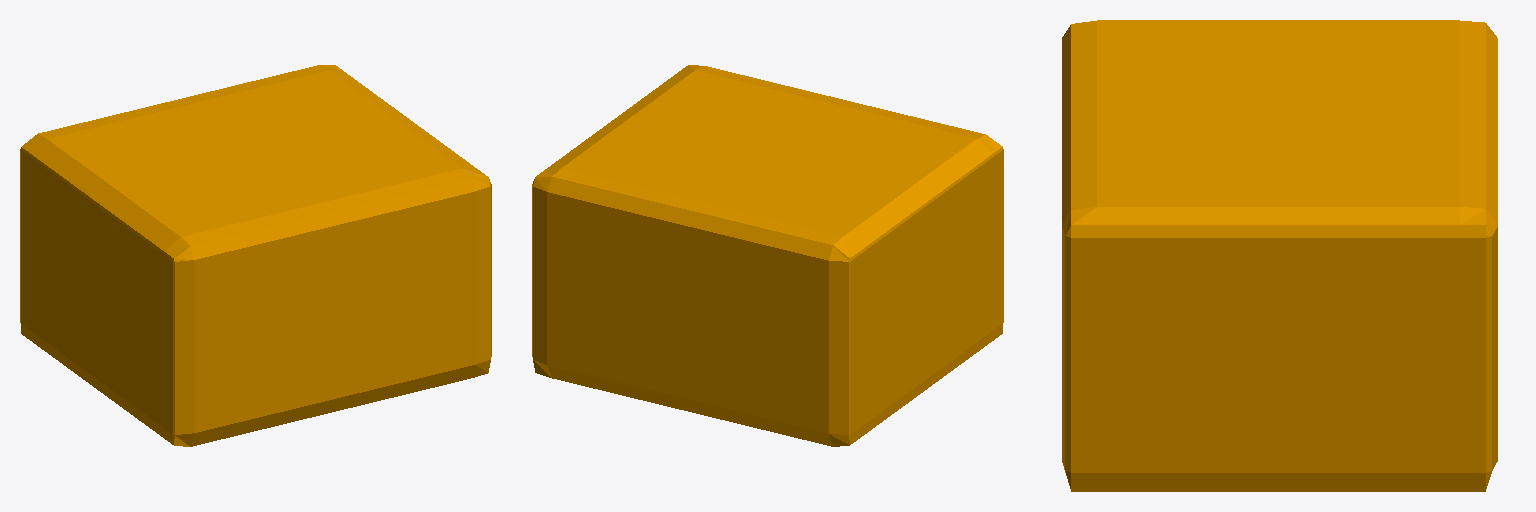
The robot description file, URDF, robot "cylinder_box_52":
<?xml version="1.0" encoding="utf-8"?>  <robot name="cylinder_box_52">   <link name="cylinder_box_52">     <visual>       <geometry>         <mesh filename="../meshes/box/box_52.stl" scale="1 1 1"/>       </geometry>     </visual>     <collision>       <geometry>         <mesh filename="../meshes/box/box_52.stl" scale="1 1 1"/>       </geometry>     </collision>     <inertial>        <origin         xyz="0 0 0"         rpy="0 0 0" />       <mass value="0.4710658334984667"/>       <origin rpy="0 0 0" xyz="0 0 0"/>       <inertia ixx="0.0004090696473235199" ixy="2.8145556837173163e-08" ixz="-4.9779187925912204e-08" iyy="0.0004921273137409853" iyz="-1.0343053533054065e-07" izz="0.0006341606645974483"/>     </inertial>   </link>  </robot>

--- What the picture shows (computed from the rendered views, not written in the file) ---
Views: 3 orthographic renders of the robot side by side, from view 1: azimuth 30°, elevation 25°; view 2: azimuth 150°, elevation 25°; view 3: azimuth 270°, elevation 25°.
Robot: cylinder_box_52 — 1 links, 0 joints (none); root link cylinder_box_52; default pose: every joint at zero.
Visible links, largest first — view 1: cylinder_box_52; view 2: cylinder_box_52; view 3: cylinder_box_52.
Boxes of the visible links, x1,y1,x2,y2 form: cylinder_box_52: (20,65,491,446); cylinder_box_52: (532,65,1003,446); cylinder_box_52: (1062,20,1497,491).
Bounding box of the posed robot: 0.0961 × 0.0843 × 0.0588 m (x, y, z).
1 mesh visuals loaded from 1 distinct referenced files (1 binary STL).